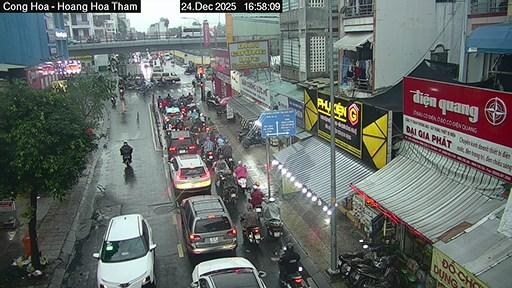motorbike: (336, 238, 387, 275), (348, 255, 405, 286), (280, 265, 307, 286), (282, 265, 306, 286), (243, 226, 262, 243), (242, 133, 263, 147), (265, 219, 281, 237), (224, 185, 236, 202), (237, 176, 249, 192), (202, 151, 214, 166), (236, 130, 249, 142), (224, 154, 233, 170), (205, 97, 217, 107), (253, 203, 262, 216), (214, 104, 224, 115), (122, 153, 130, 166), (109, 95, 115, 107), (118, 86, 124, 95), (280, 247, 284, 256), (280, 270, 281, 271)
